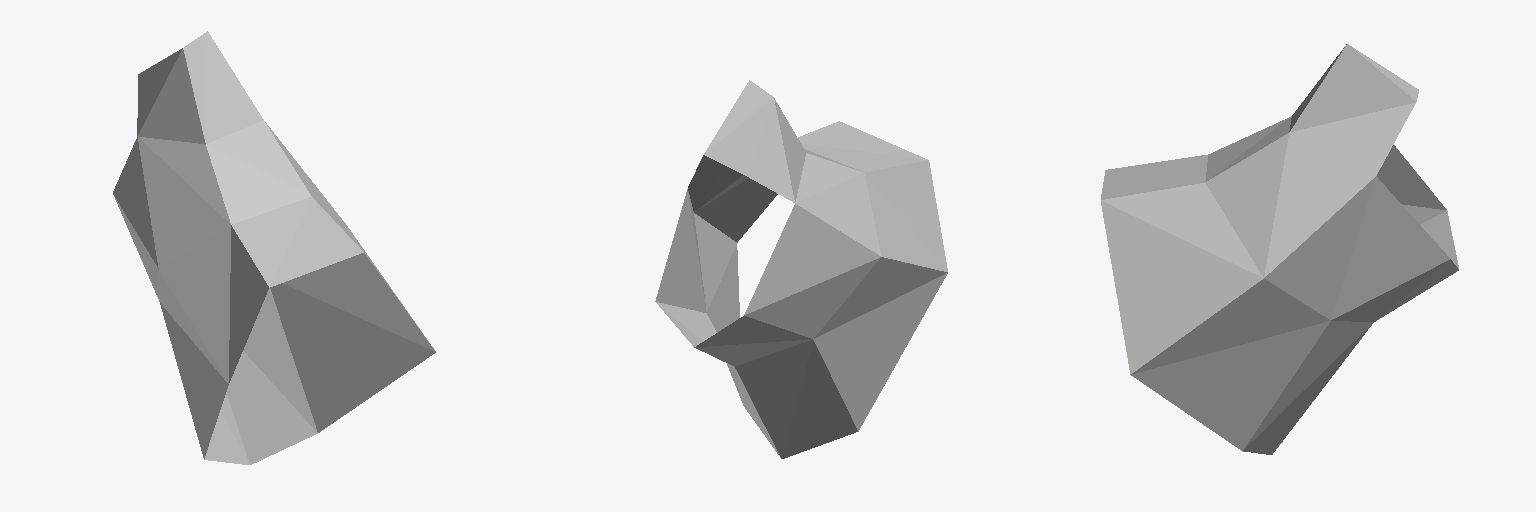
Rendered from patte_ar_g_2.obj.
3 renders of one model, left to right at view 1: azimuth 30°, elevation 25°; view 2: azimuth 150°, elevation 25°; view 3: azimuth 270°, elevation 25°, orthographic.
Parts seen in each view (by area): view 1: patte_ar_g_2_Wolf.016; view 2: patte_ar_g_2_Wolf.016; view 3: patte_ar_g_2_Wolf.016.
Part boxes in pixels (left/top/right/bottom): patte_ar_g_2_Wolf.016: left=113, top=31, right=435, bottom=464; patte_ar_g_2_Wolf.016: left=655, top=80, right=947, bottom=458; patte_ar_g_2_Wolf.016: left=1101, top=44, right=1458, bottom=454.
Bounding box in the file's own units: 9.55 × 17.65 × 14.07.